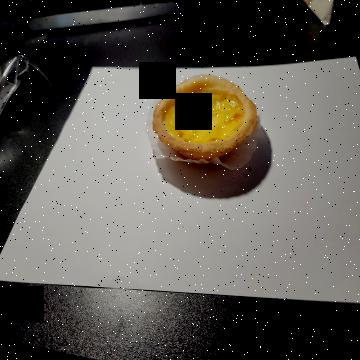EggTart: (151, 73, 257, 165)
